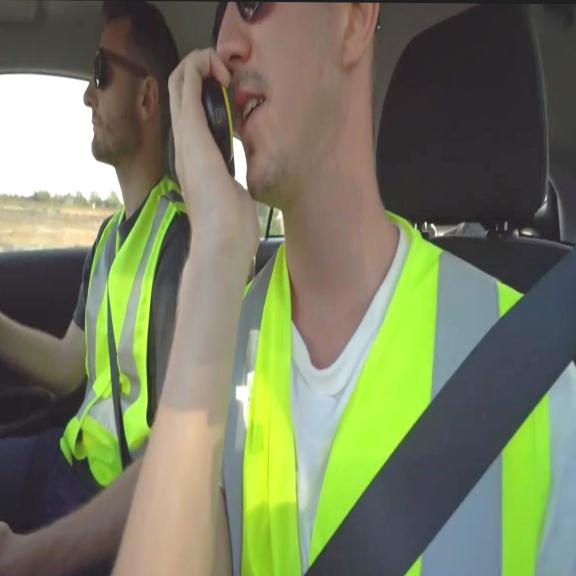safety_vest: (218, 211, 576, 576), (60, 171, 190, 490)
